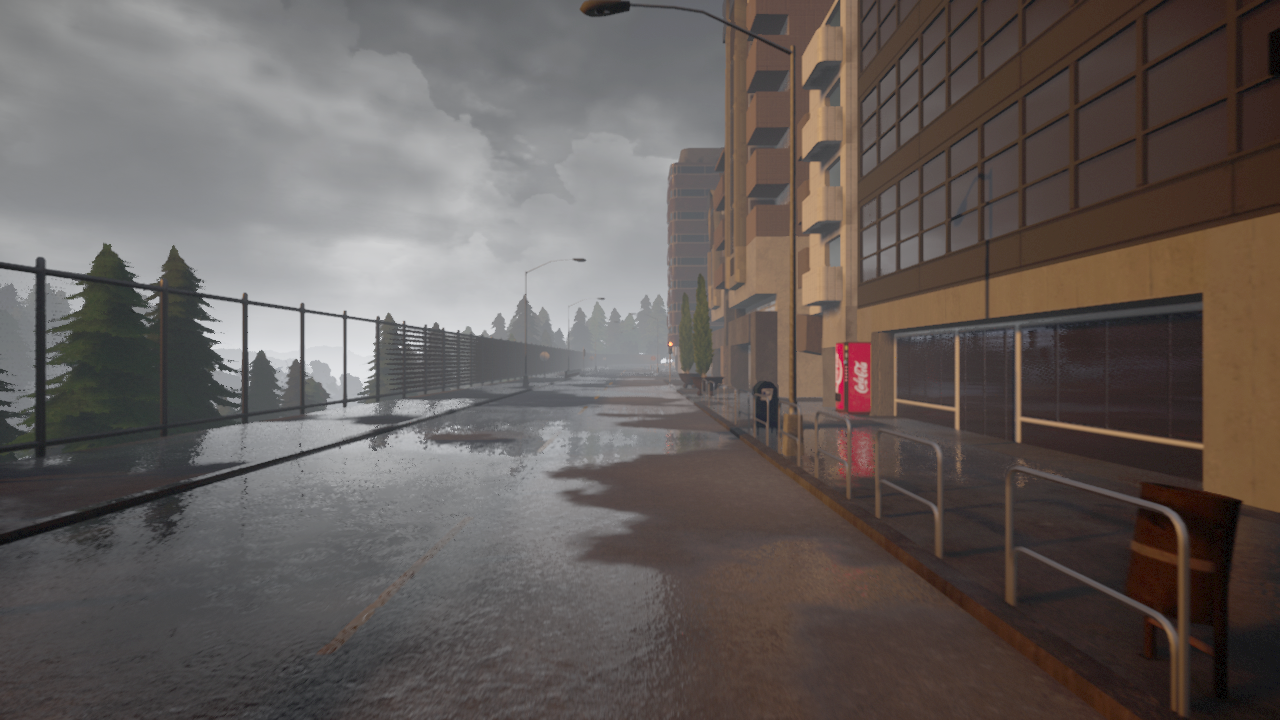red: (667, 340, 672, 355)
